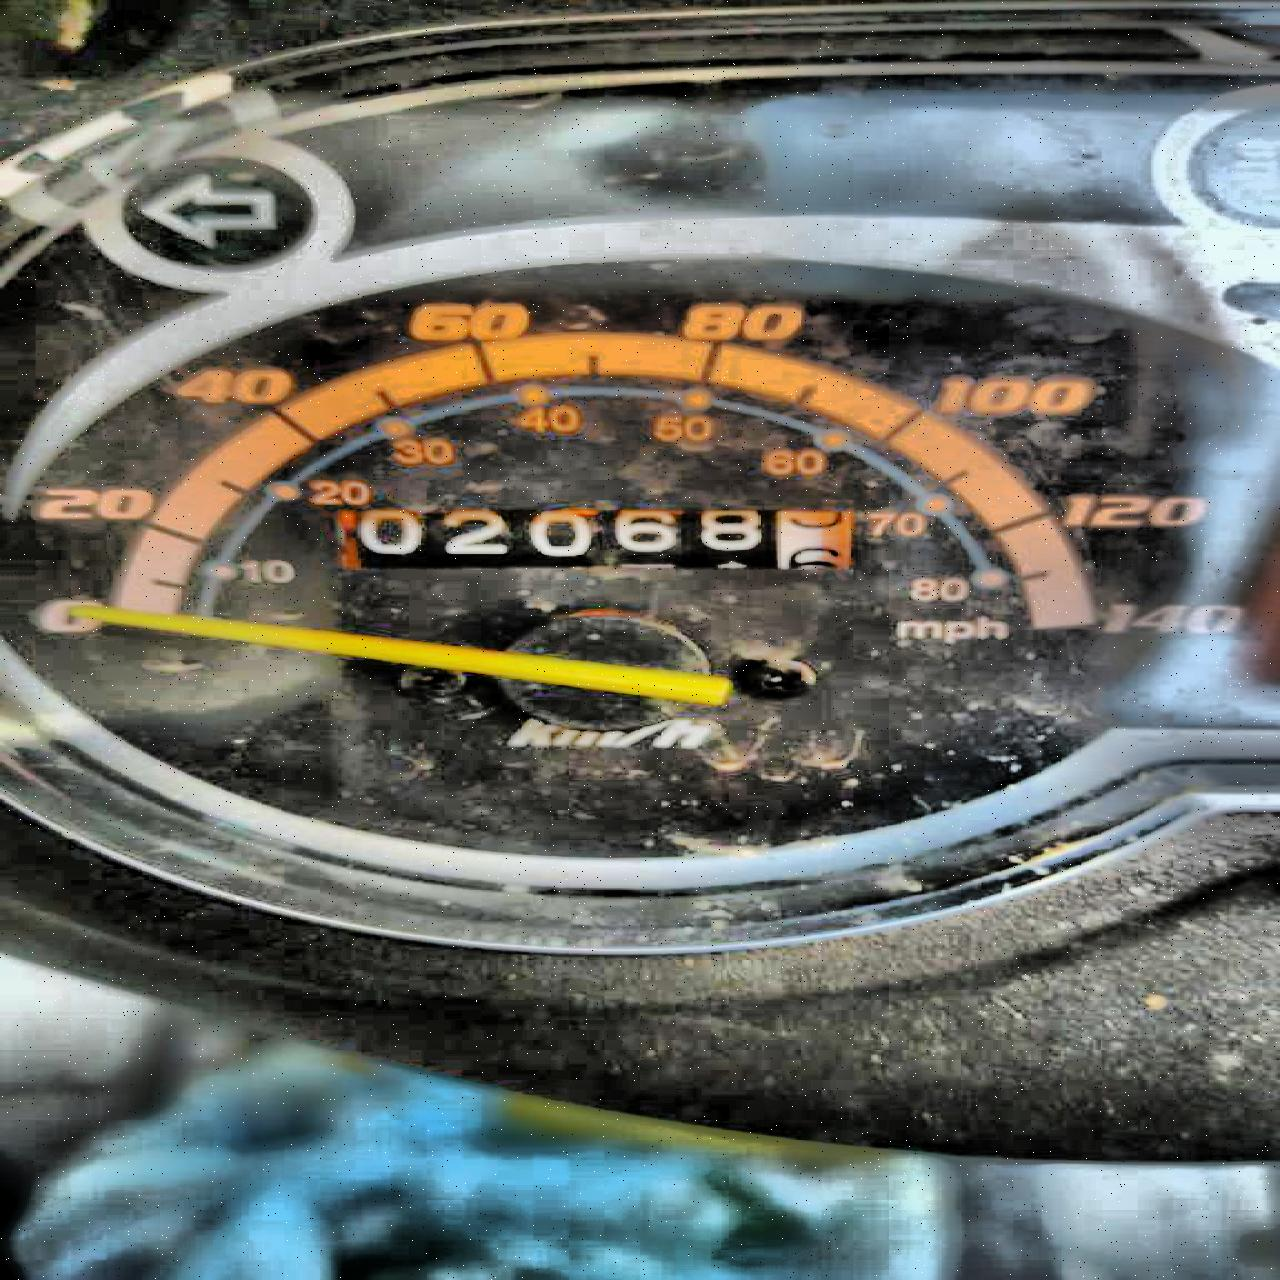0: (355, 509, 422, 553), (526, 510, 591, 556)
2: (441, 508, 506, 553)
6: (611, 508, 675, 551), (784, 544, 844, 583)
8: (696, 504, 762, 551)
odometer: (325, 503, 863, 572)
